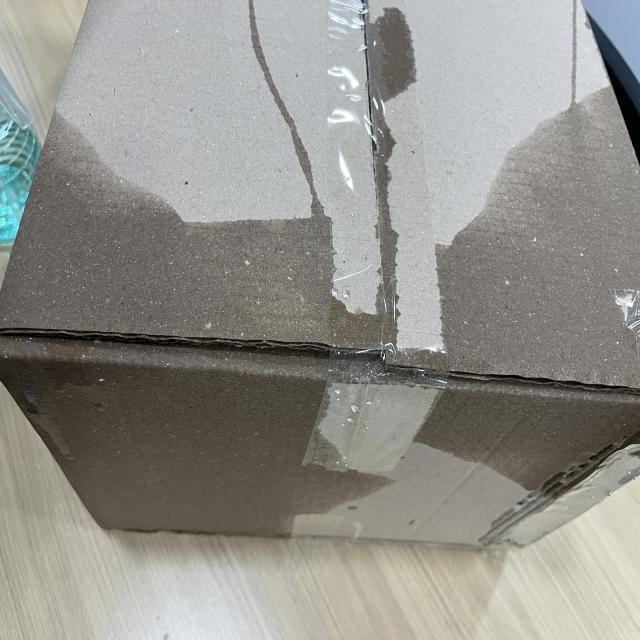wet: (4, 125, 341, 551), (431, 91, 640, 494)
